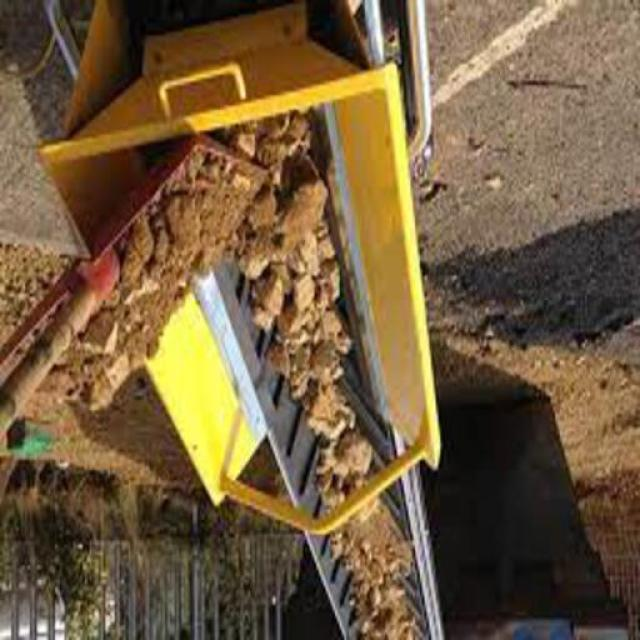conveyor: (199, 97, 436, 639)
